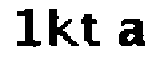1: (11, 4, 42, 50)
a: (117, 15, 148, 51)
k: (45, 6, 78, 52)
t: (80, 12, 107, 55)
